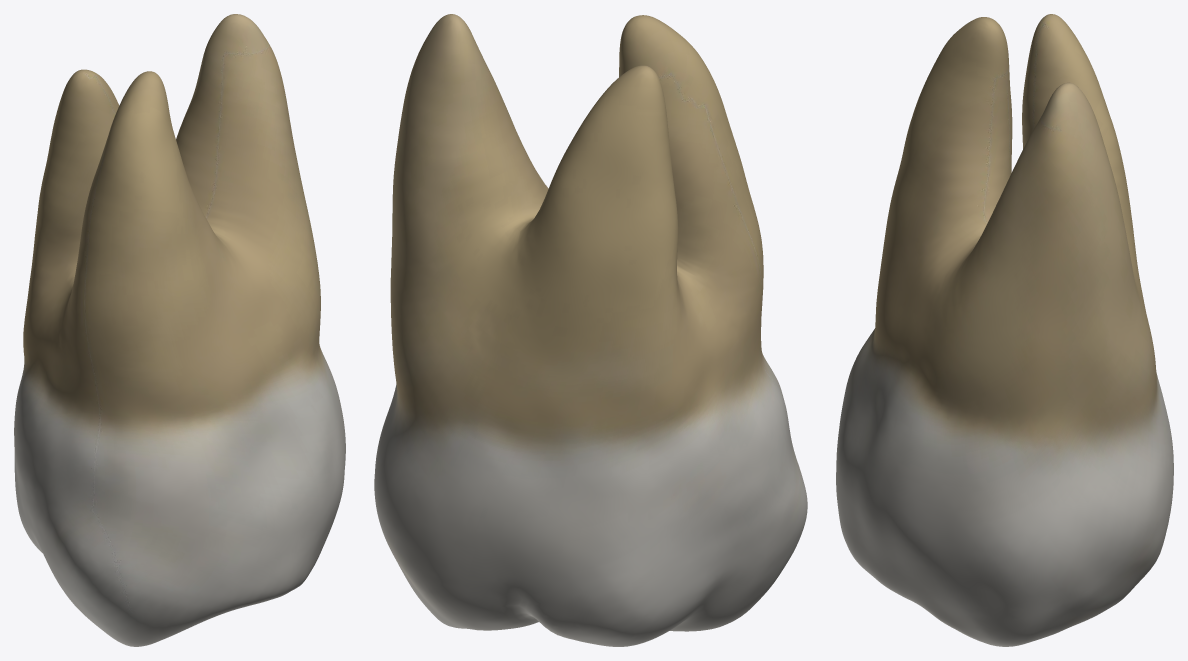
The picture shows the model from 3 angles, left to right: view 1: azimuth 30°, elevation 25°; view 2: azimuth 150°, elevation 25°; view 3: azimuth 270°, elevation 25°; orthographic projection. The views are drawn at different scales.
Parts seen in each view (by area): view 1: diente-18; view 2: diente-18; view 3: diente-18.
Part boxes in pixels (x1=…): diente-18: x1=14, y1=14, x2=345, y2=646; diente-18: x1=374, y1=14, x2=807, y2=646; diente-18: x1=836, y1=14, x2=1173, y2=646.
Bounding box in the file's own units: 0.0103 × 0.017 × 0.00933.
Materials: 1 (1 with a texture image).
